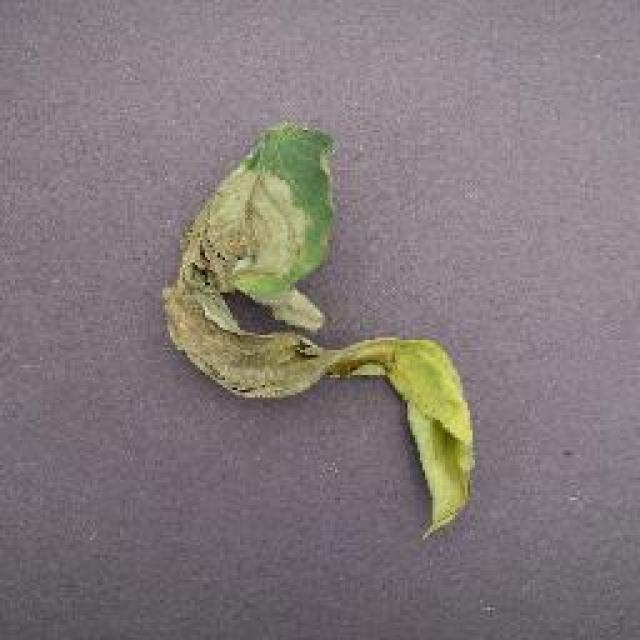Tomato Late Blight: (132, 190, 466, 523)
